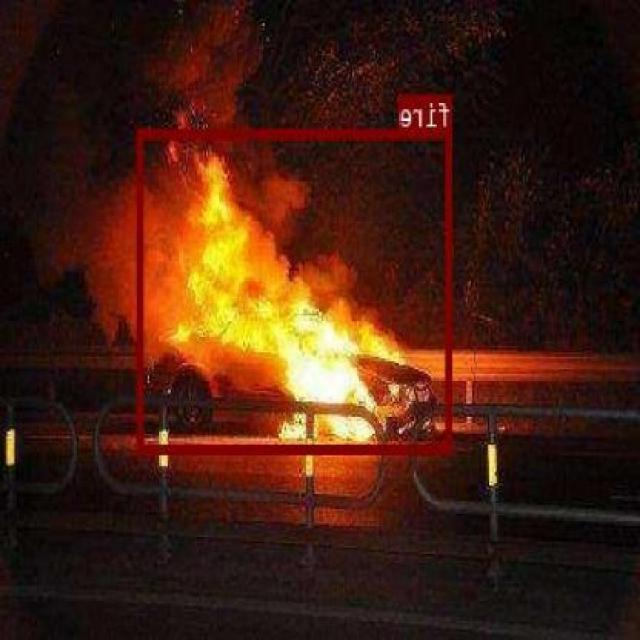Fire: (139, 126, 453, 452)
